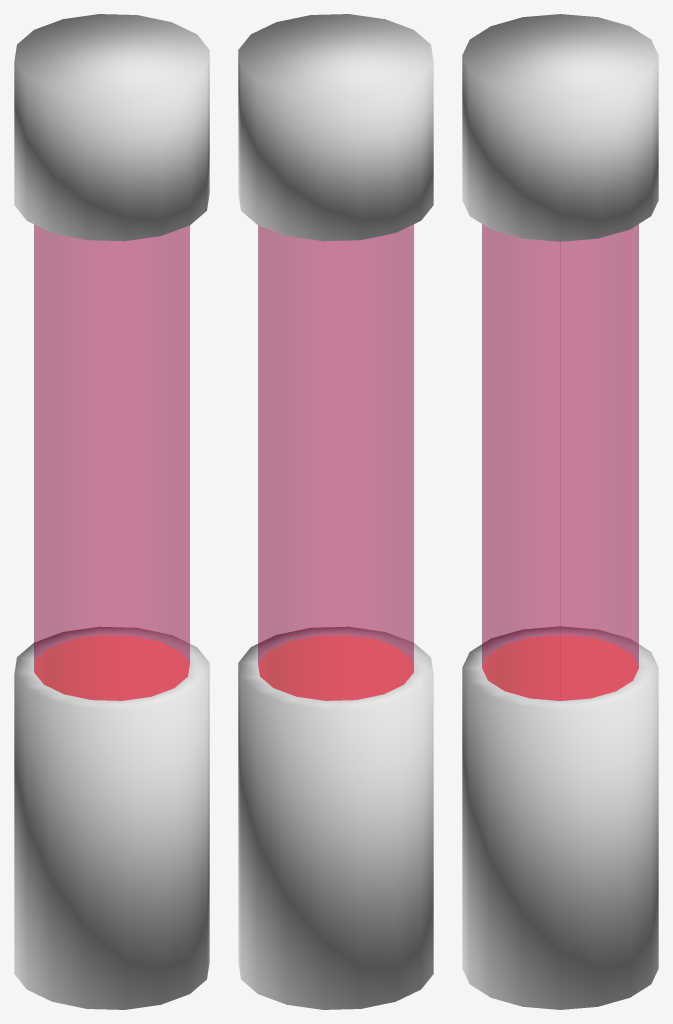
The model's file is lava-lamp.glb.
3 views of the same model, side by side, from view 1: azimuth 30°, elevation 25°; view 2: azimuth 150°, elevation 25°; view 3: azimuth 270°, elevation 25° (orthographic).
Visible parts, largest first — view 1: Cylinder, Cylinder.001; view 2: Cylinder, Cylinder.001; view 3: Cylinder, Cylinder.001.
Boxes of the visible parts, left/top/right/bottom form: Cylinder: left=14, top=14, right=209, bottom=1009; Cylinder.001: left=34, top=224, right=189, bottom=700; Cylinder: left=238, top=14, right=433, bottom=1009; Cylinder.001: left=258, top=224, right=413, bottom=700; Cylinder: left=462, top=14, right=658, bottom=1009; Cylinder.001: left=482, top=224, right=638, bottom=700.
Bounding box in the file's own units: 0.08 × 0.41 × 0.08.
